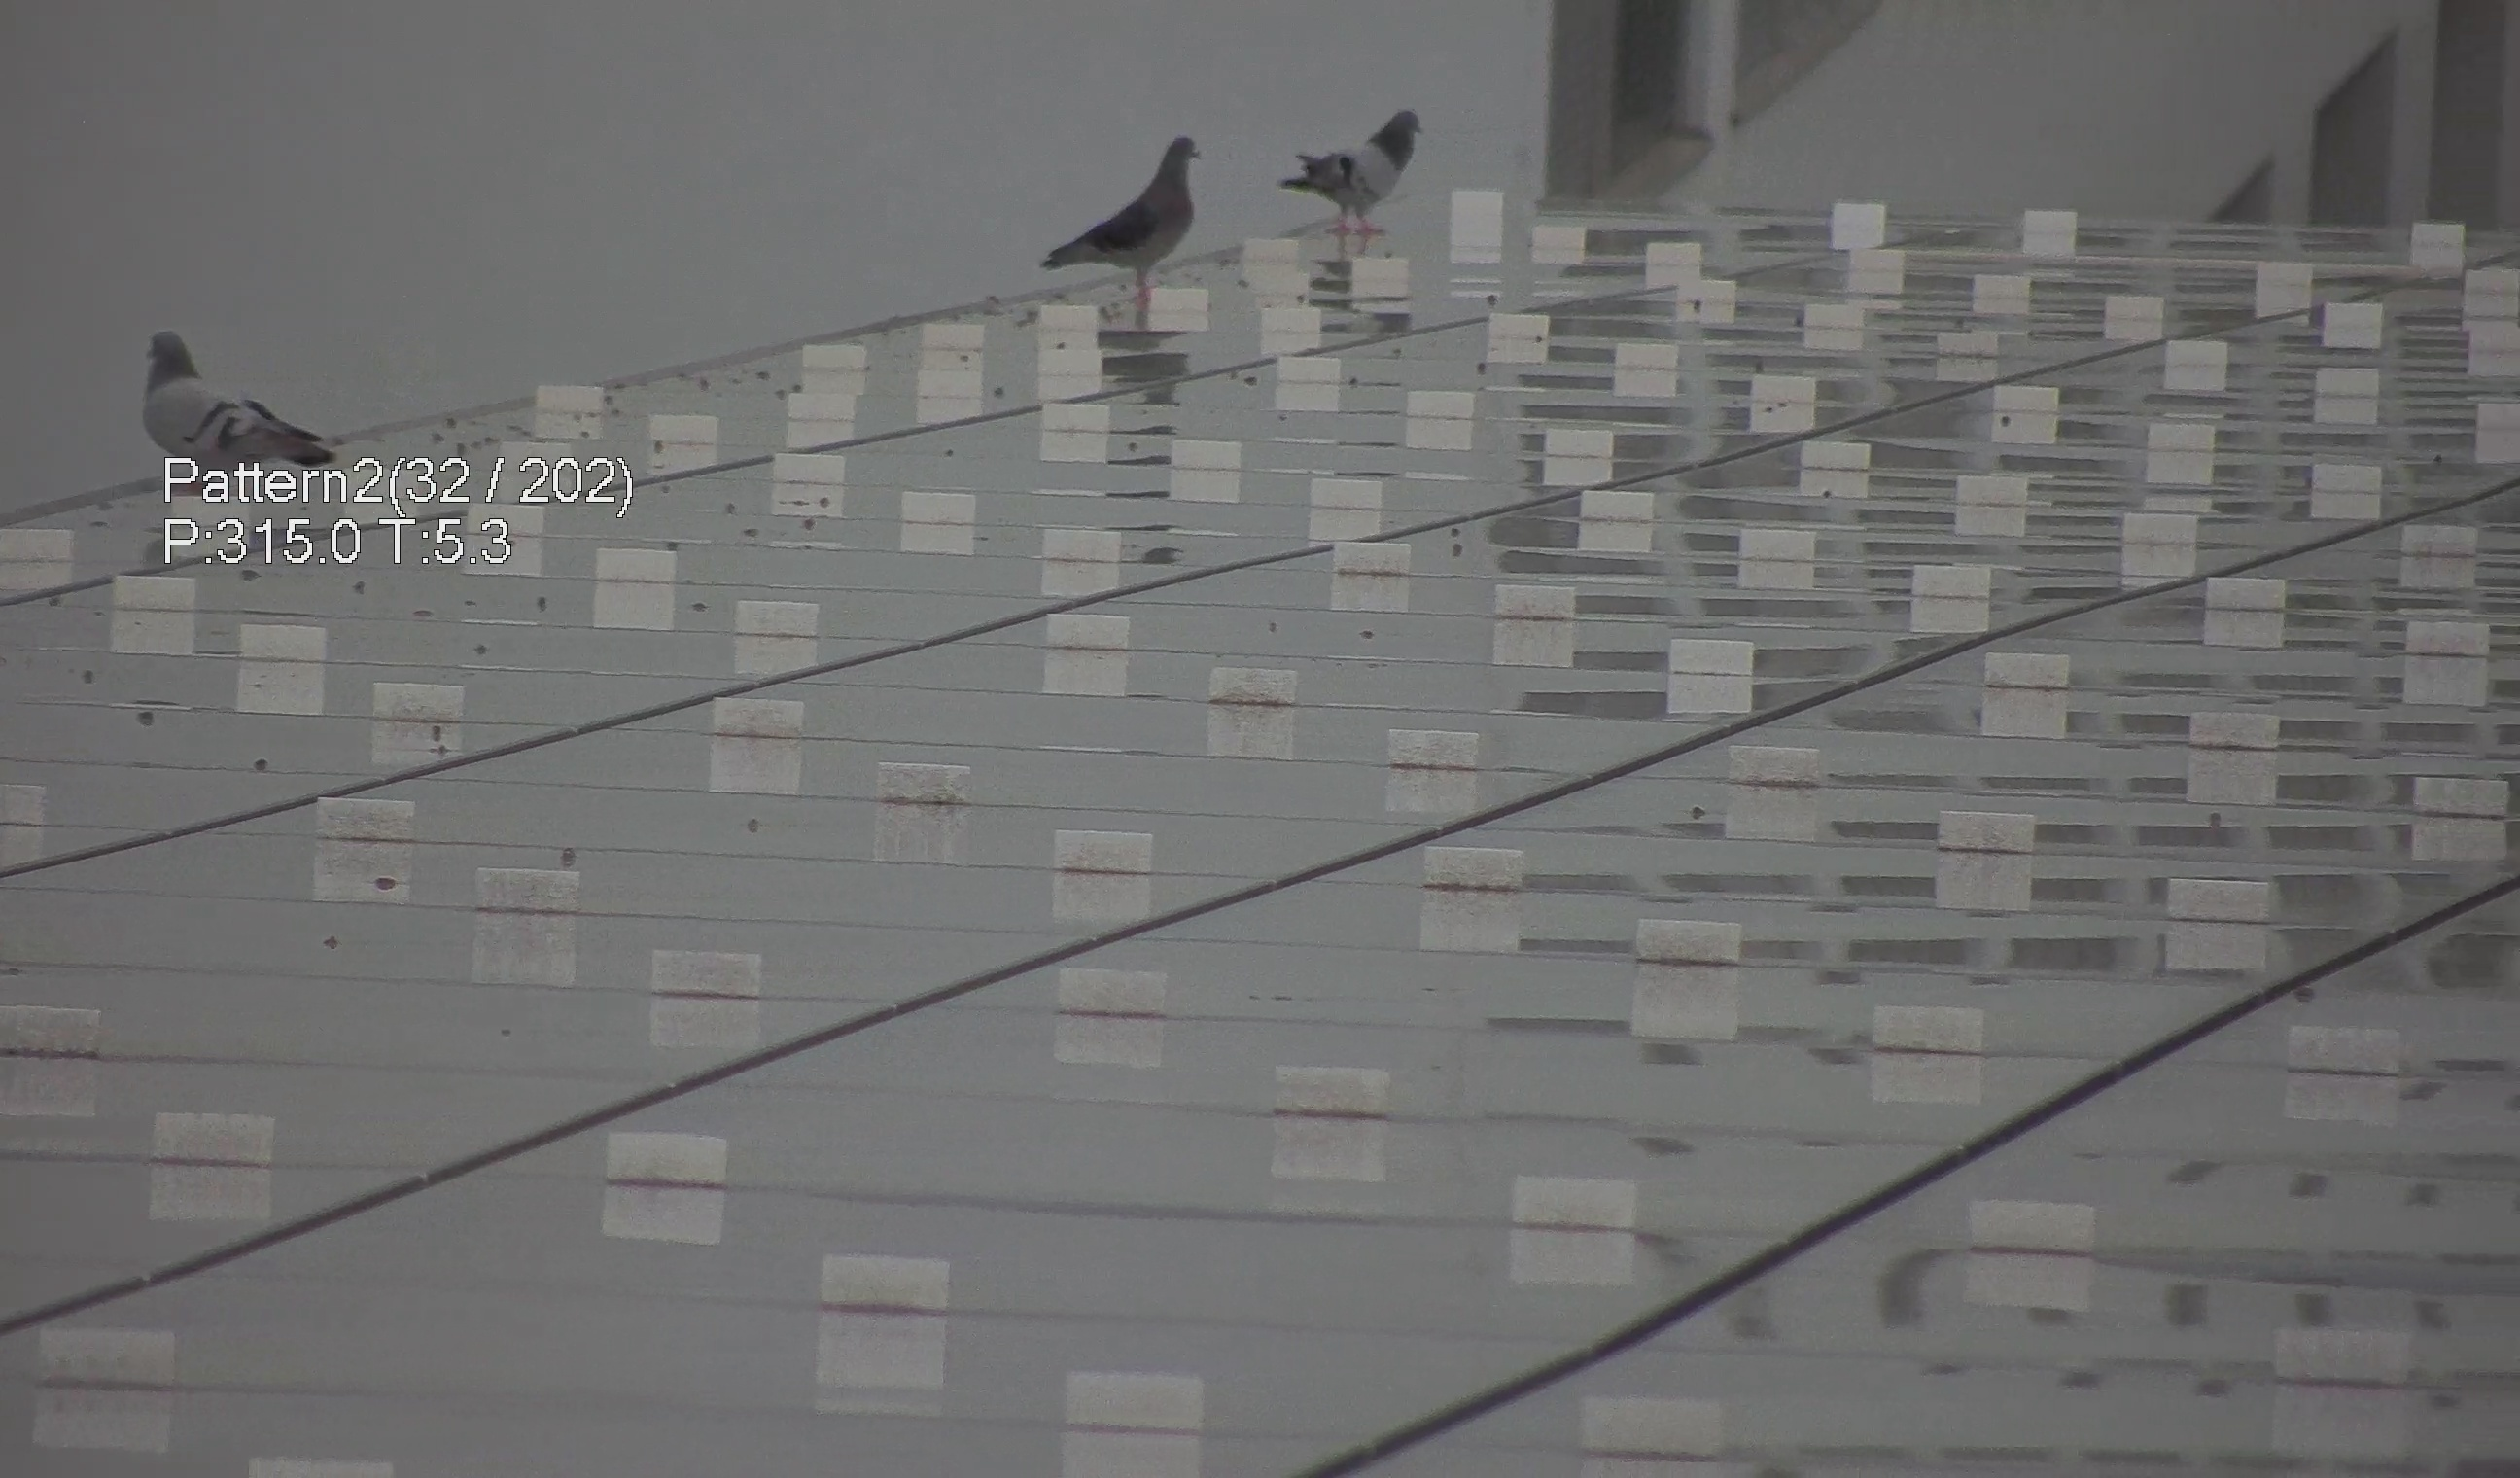Pigeon: (130, 318, 346, 482), (1043, 120, 1215, 297), (1280, 93, 1431, 241)
